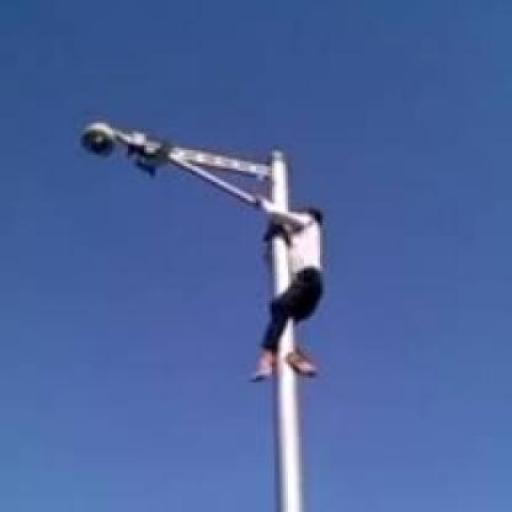street light: (77, 118, 306, 510)
